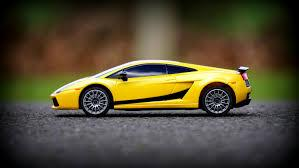car: (51, 58, 251, 115)
